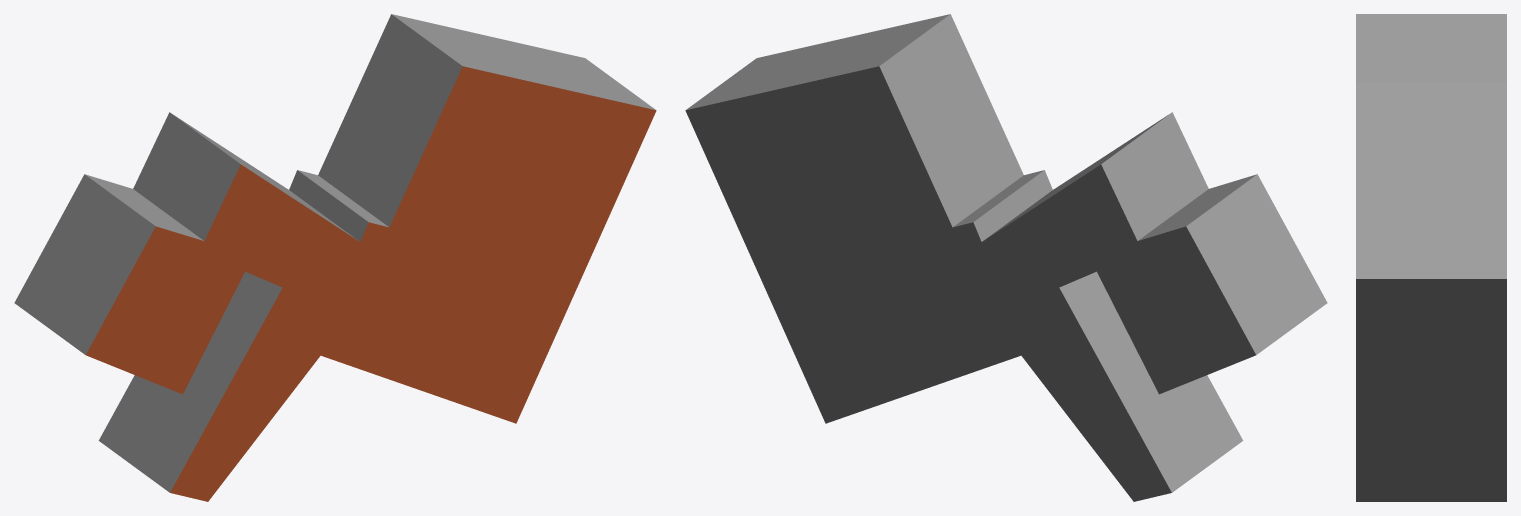
The model's file is construction_6749_assumed_A_Casa_h6m.obj.
The picture shows the model from 3 angles, left to right: view 1: azimuth 30°, elevation 25°; view 2: azimuth 150°, elevation 25°; view 3: azimuth 270°, elevation 25°; orthographic projection. The views are drawn at different scales.
Parts seen in each view (by area): view 1: construction_6749_assumed_A_Casa; view 2: construction_6749_assumed_A_Casa; view 3: construction_6749_assumed_A_Casa.
Part boxes in pixels (<box>): construction_6749_assumed_A_Casa: <box>14,14,656,501</box>; construction_6749_assumed_A_Casa: <box>685,14,1327,501</box>; construction_6749_assumed_A_Casa: <box>1356,14,1506,501</box>.
Size of the model in its own units: 27.73 by 17.34 by 6.
